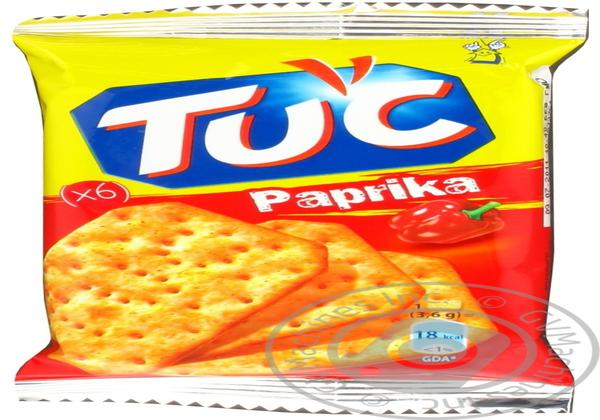crackers tuc: (38, 25, 551, 391)
